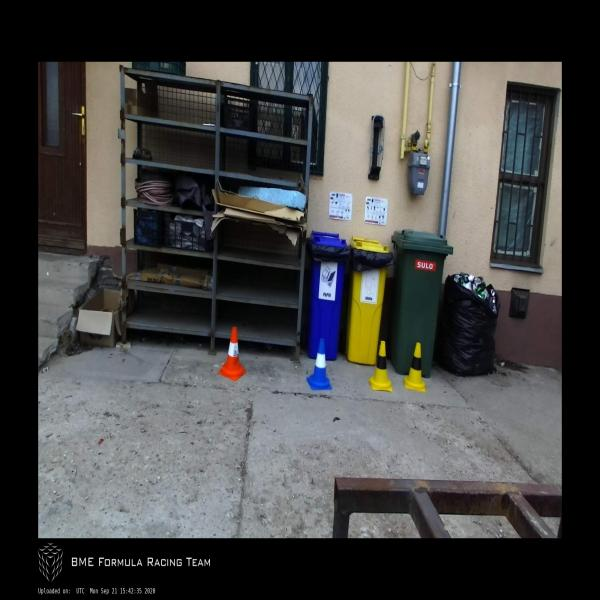blue_cone: (306, 338, 332, 390)
orange_cone: (218, 326, 246, 380)
yellow_cone: (368, 341, 392, 392), (404, 343, 425, 392)
